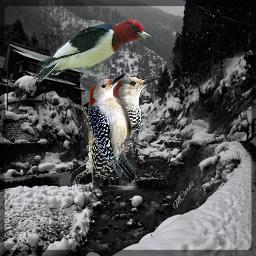Woodpecker: (70, 75, 161, 191), (25, 13, 157, 90), (88, 73, 139, 178)
